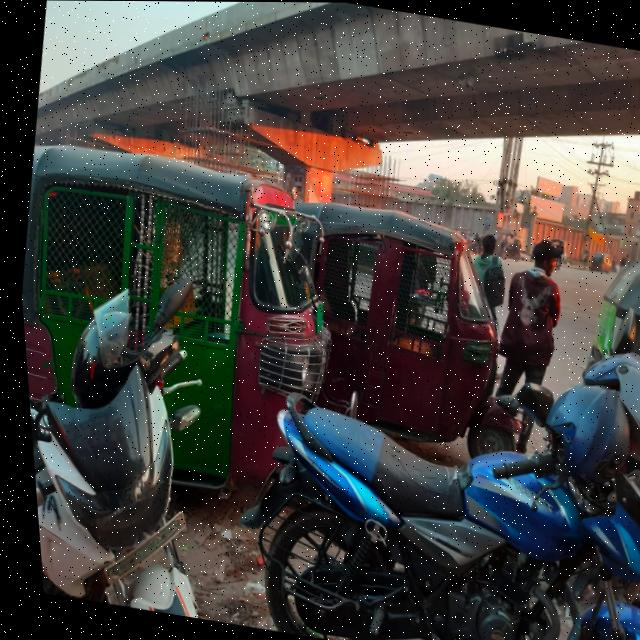cng: (7, 125, 376, 570), (255, 190, 530, 466)
